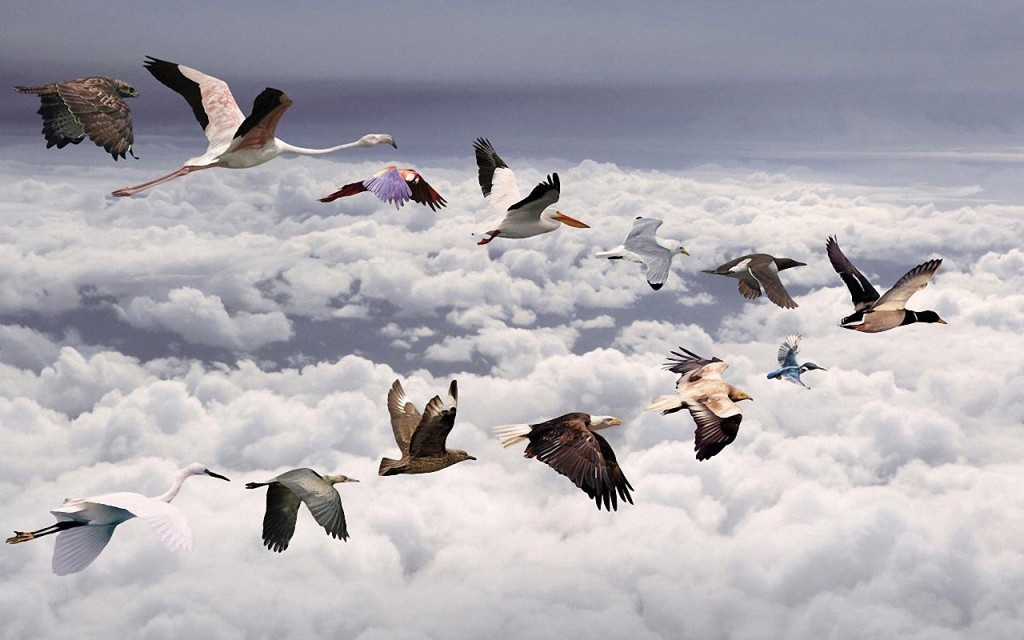bird: (104, 49, 403, 199), (0, 455, 237, 593), (487, 405, 650, 517), (465, 129, 597, 254), (821, 228, 967, 339), (637, 344, 759, 468), (9, 70, 150, 162), (371, 367, 481, 481), (238, 460, 362, 556), (587, 208, 695, 295), (698, 242, 812, 324), (315, 160, 456, 216), (760, 332, 836, 403)
